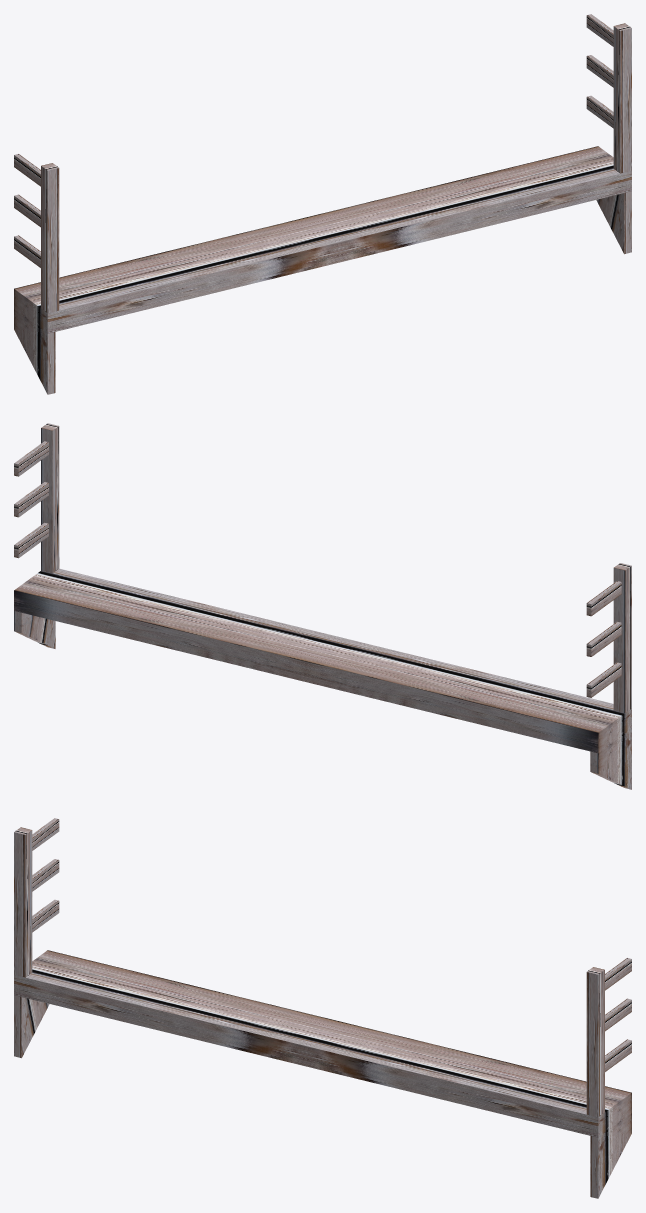
The picture shows the model from 3 angles, top to bottom: view 1: azimuth 30°, elevation 25°; view 2: azimuth 150°, elevation 25°; view 3: azimuth 330°, elevation 25°; orthographic projection.
Parts seen in each view (by area): view 1: esc_r003_woodboard_0; view 2: esc_r003_woodboard_0; view 3: esc_r003_woodboard_0.
Boxes of the visible parts, left/top/right/bottom form: esc_r003_woodboard_0: left=14, top=14, right=631, bottom=394; esc_r003_woodboard_0: left=14, top=423, right=631, bottom=789; esc_r003_woodboard_0: left=14, top=818, right=631, bottom=1198.
Bounding box in the file's own units: 3 × 1.1 × 0.33.
Materials: 1 (1 with a texture image).
